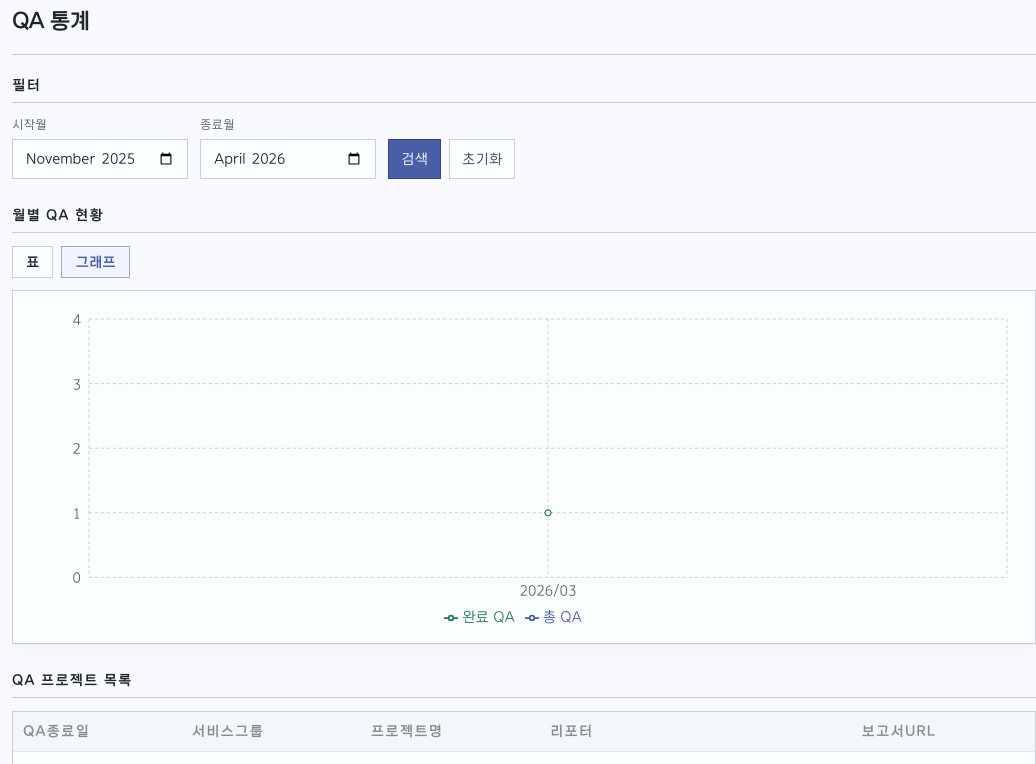
Scenario: Stats pages › applies the QA period only after search is clicked
Check: the field named "QA 종료월" holds "2026-04", box top-left (200, 139), bottom-right (376, 179)
Replace the text in the field named "QA 시작월" with "2025-07" at (100, 159), box top-left (12, 139), bottom-right (188, 179)
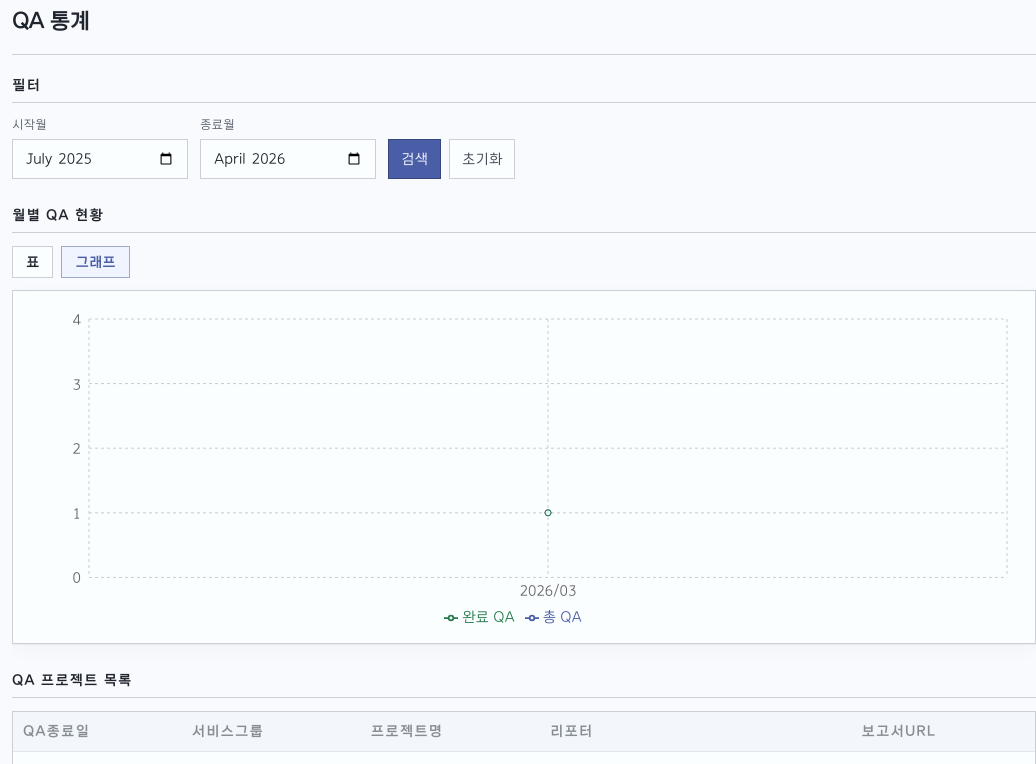
Replace the text in the field named "QA 종료월" with "2025-07" at (288, 159), box top-left (200, 139), bottom-right (376, 179)
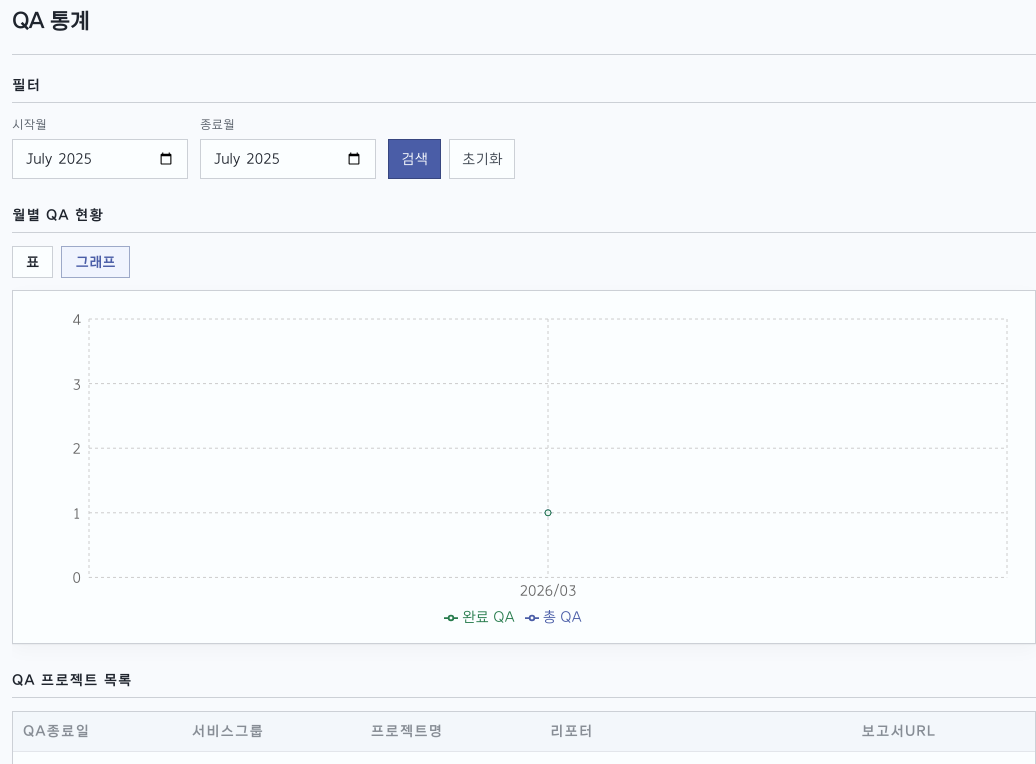
Check: the text "과거 QA 대상" is not shown
Click the button "검색" at (414, 159), box top-left (388, 139), bottom-right (441, 179)
(page scrolled)
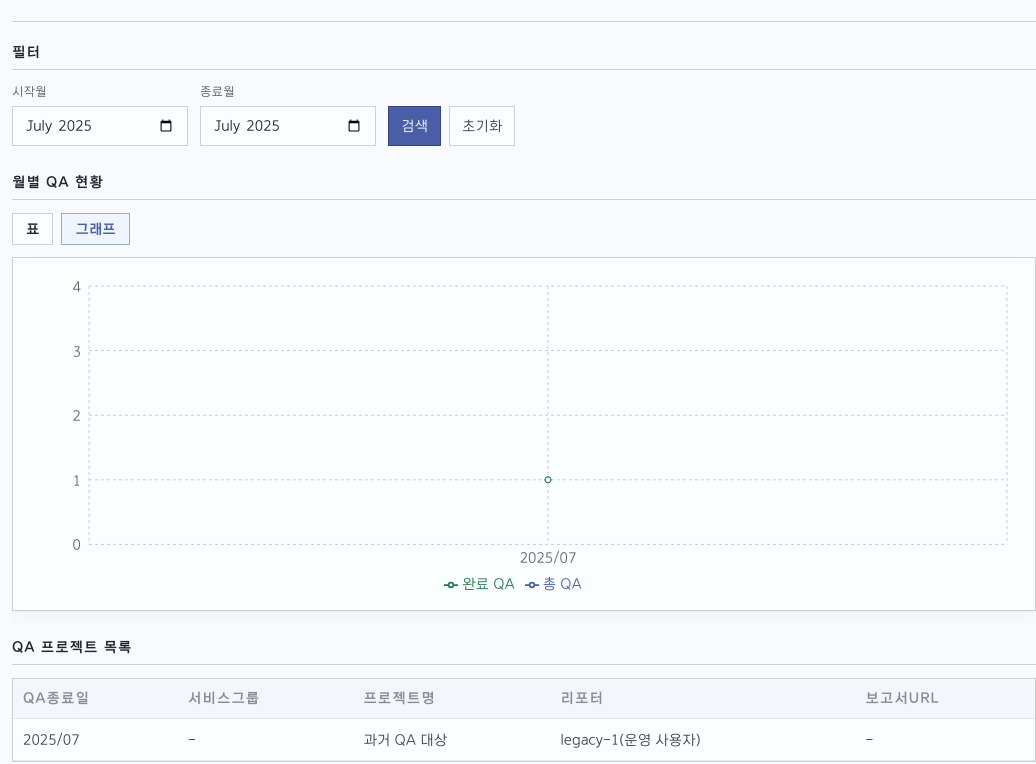
Check: the text "과거 QA 대상" is shown, box top-left (353, 719), bottom-right (550, 761)
